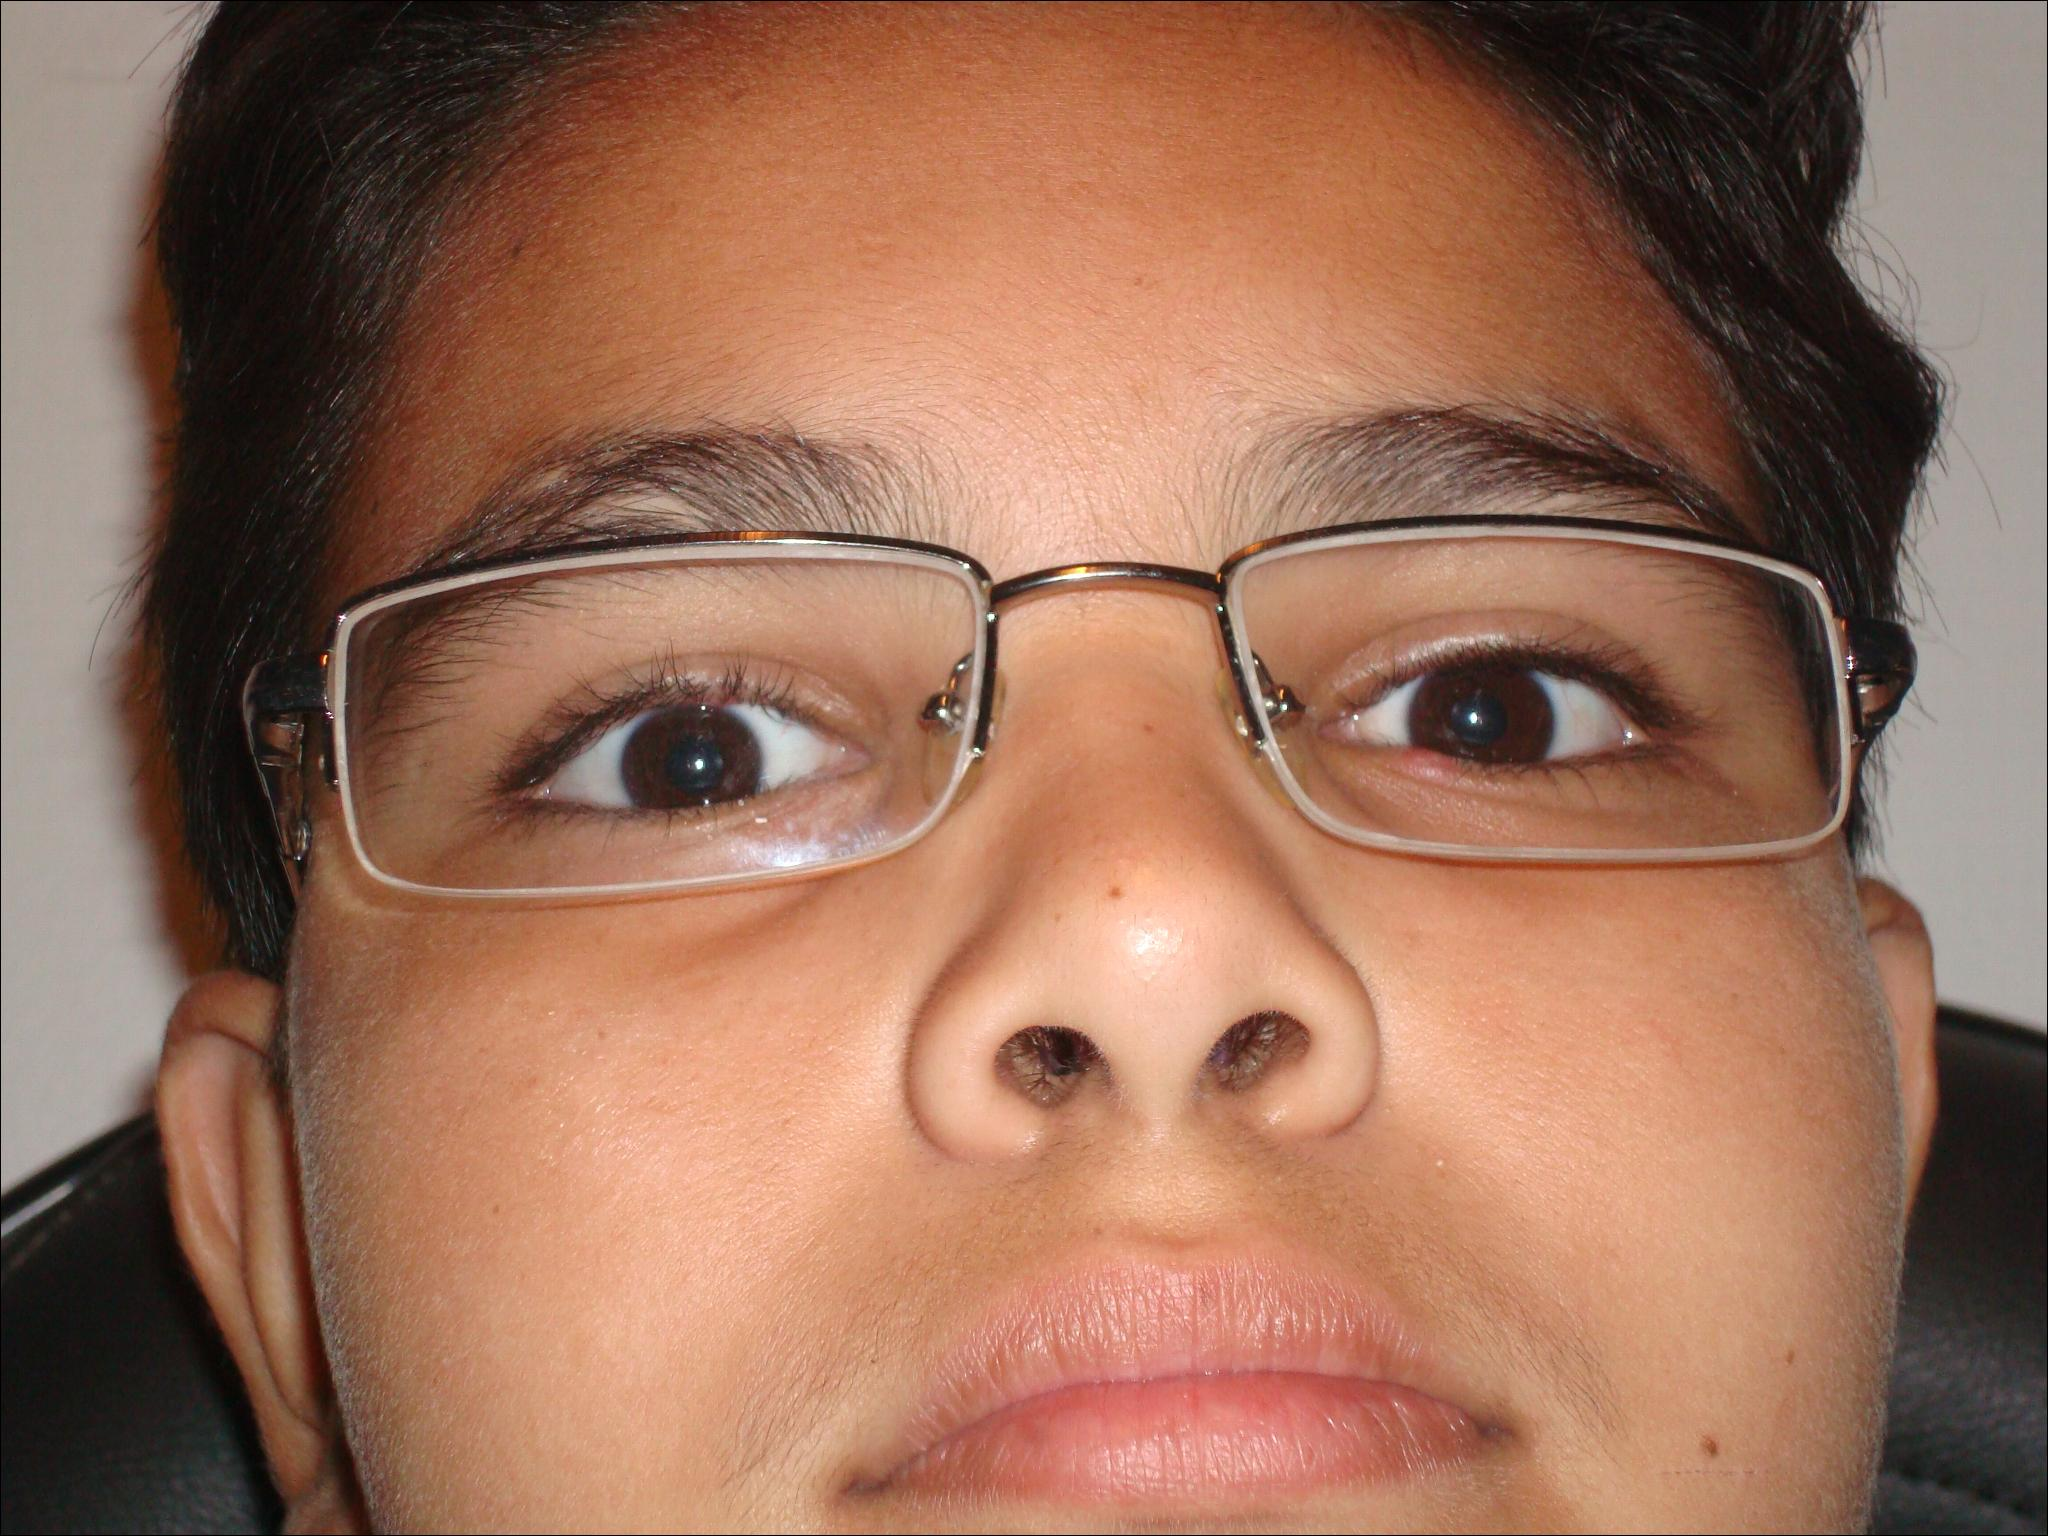flash: (1463, 705, 1485, 731), (689, 755, 708, 773)
limbo: (1398, 655, 1558, 784), (619, 710, 763, 821)
